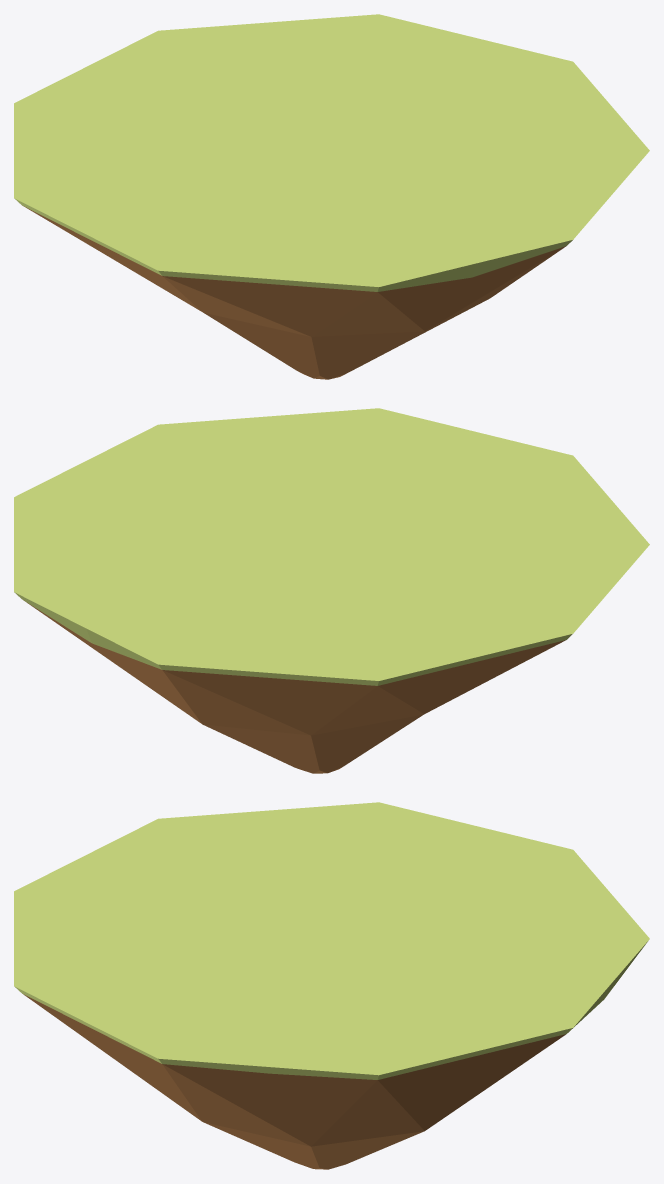
The model's file is falling platform.glb.
3 renders of one model, top to bottom at view 1: azimuth 30°, elevation 25°; view 2: azimuth 150°, elevation 25°; view 3: azimuth 270°, elevation 25°, orthographic.
Visible parts, largest first — view 1: IslandLarge; view 2: IslandLarge; view 3: IslandLarge.
Boxes of the visible parts, x1,y1,x2,y2 form: IslandLarge: (14, 14, 649, 379); IslandLarge: (14, 408, 649, 773); IslandLarge: (14, 802, 649, 1169).
Bounding box in the file's own units: 4.34 × 1.67 × 4.28.
